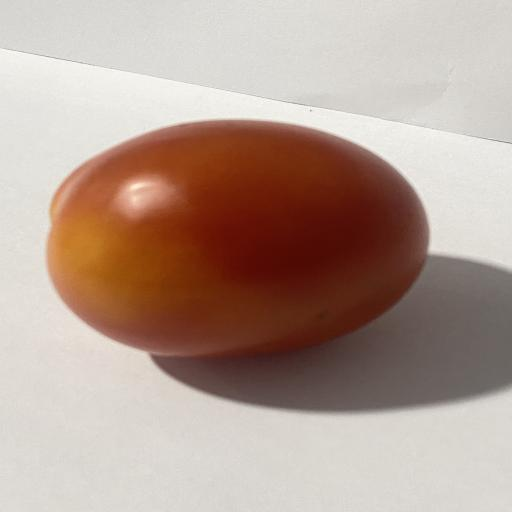ripe: (47, 120, 429, 357)
